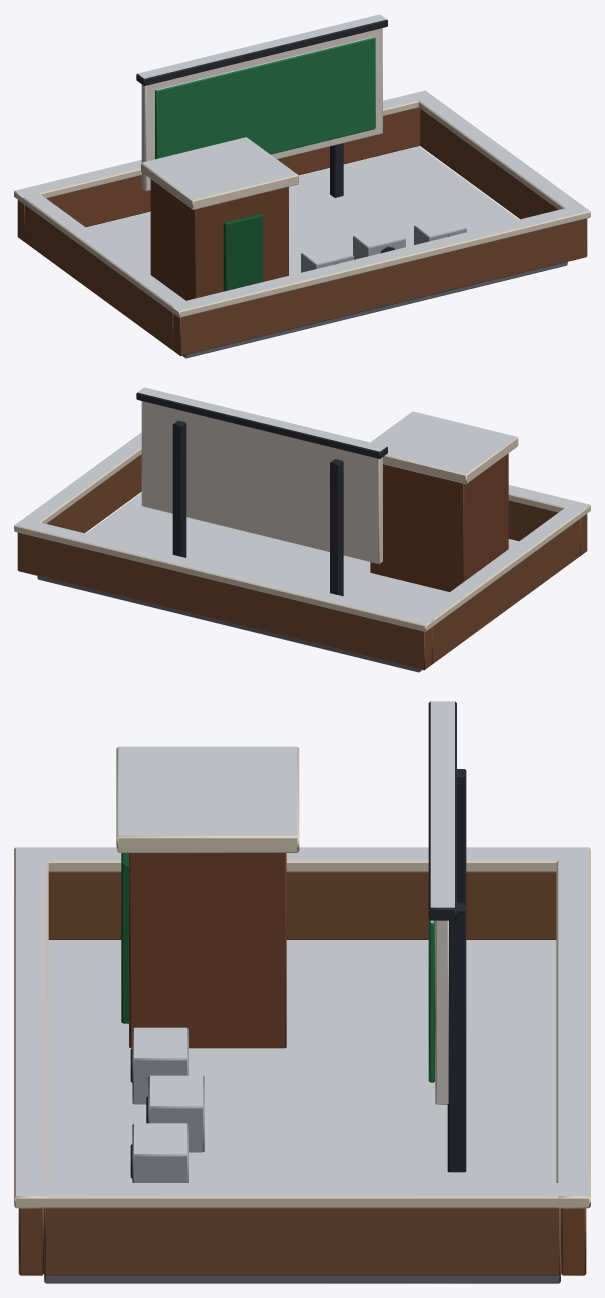
Rendered from Shop_Cocoa_Roof.glb.
3 views of the same model, one above another, from view 1: azimuth 30°, elevation 25°; view 2: azimuth 150°, elevation 25°; view 3: azimuth 270°, elevation 25° (orthographic). The views are drawn at different scales.
Parts seen in each view (by area): view 1: Shop_Cocoa_Roof; view 2: Shop_Cocoa_Roof; view 3: Shop_Cocoa_Roof.
Boxes of the visible parts, <box> form: Shop_Cocoa_Roof: <box>14,14,590,358</box>; Shop_Cocoa_Roof: <box>14,387,590,672</box>; Shop_Cocoa_Roof: <box>14,701,590,1283</box>.
Bounding box in the file's own units: 26.3 × 11.1 × 18.3.
